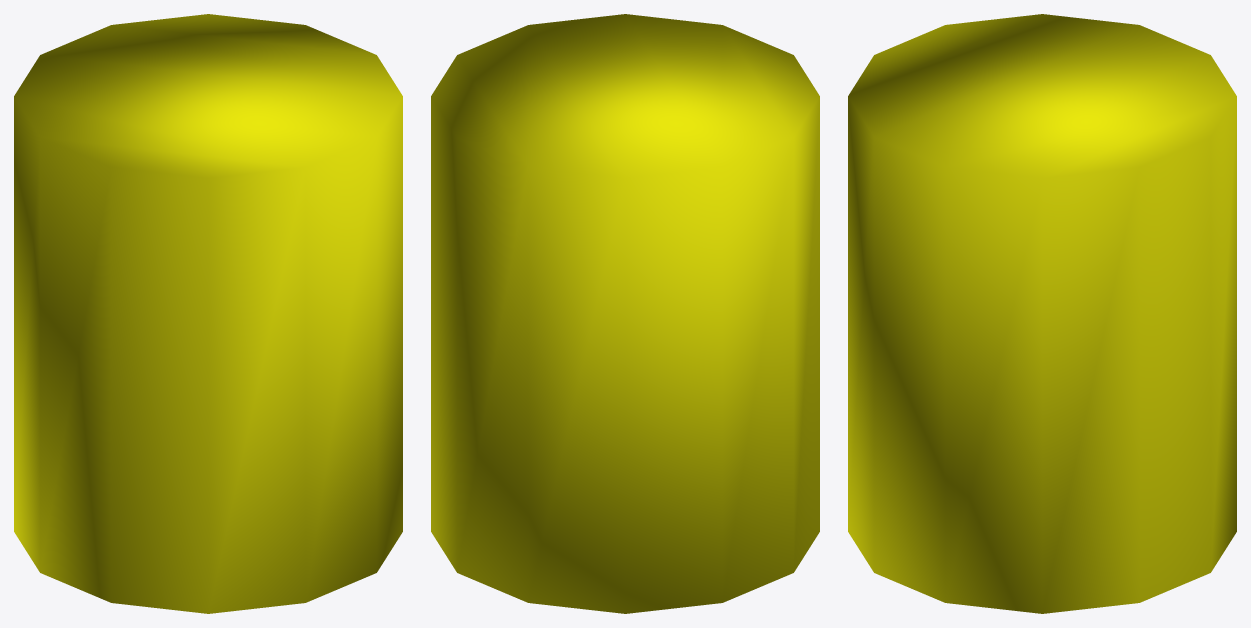
Rendered from B_Pillar_01_B.fbx.
The picture shows the model from 3 angles, left to right: view 1: azimuth 30°, elevation 25°; view 2: azimuth 150°, elevation 25°; view 3: azimuth 270°, elevation 25°; orthographic projection.
Visible parts, largest first — view 1: B_Pillar_01_B; view 2: B_Pillar_01_B; view 3: B_Pillar_01_B.
Boxes of the visible parts, bbox=[...] form: B_Pillar_01_B: bbox=[14, 14, 402, 613]; B_Pillar_01_B: bbox=[431, 14, 819, 613]; B_Pillar_01_B: bbox=[848, 14, 1236, 613].
Size of the model in its own units: 102 by 126 by 102.
